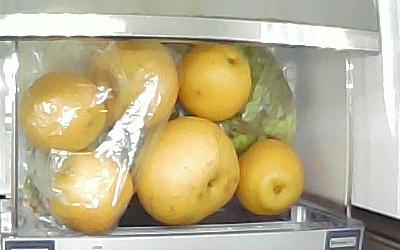pear: (131, 116, 239, 225), (178, 43, 252, 121), (236, 137, 303, 215)
pear_vinyl: (86, 40, 181, 129), (49, 150, 133, 237), (20, 71, 105, 154)
